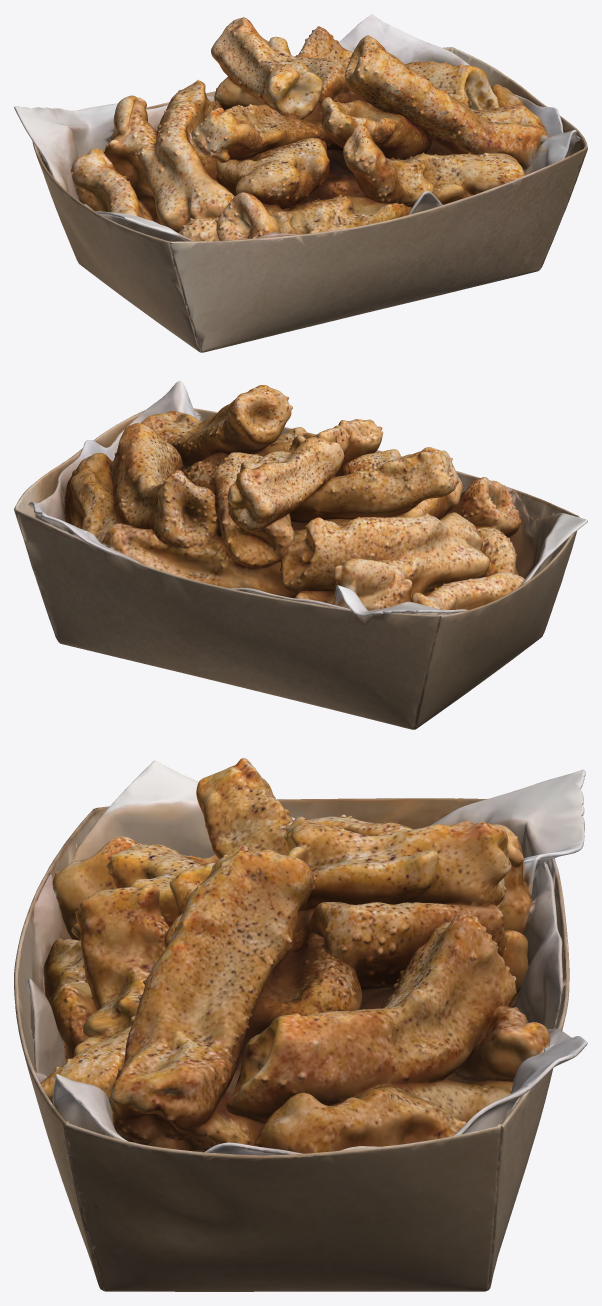
Rendered from fish-cake.glb.
3 views of the same model, one above another, from view 1: azimuth 30°, elevation 25°; view 2: azimuth 150°, elevation 25°; view 3: azimuth 270°, elevation 25° (orthographic). The views are drawn at different scales.
Visible parts, largest first — view 1: tripo_node_816778c4-e078-45b1-b716-aa7de8412bec; view 2: tripo_node_816778c4-e078-45b1-b716-aa7de8412bec; view 3: tripo_node_816778c4-e078-45b1-b716-aa7de8412bec.
Part boxes in pixels (left/top/right/bottom): tripo_node_816778c4-e078-45b1-b716-aa7de8412bec: left=14, top=14, right=587, bottom=352; tripo_node_816778c4-e078-45b1-b716-aa7de8412bec: left=14, top=381, right=587, bottom=729; tripo_node_816778c4-e078-45b1-b716-aa7de8412bec: left=14, top=758, right=587, bottom=1291.
Size of the model in its own units: 0.9784 by 0.4496 by 0.6672.
1 material, 1 textured.
